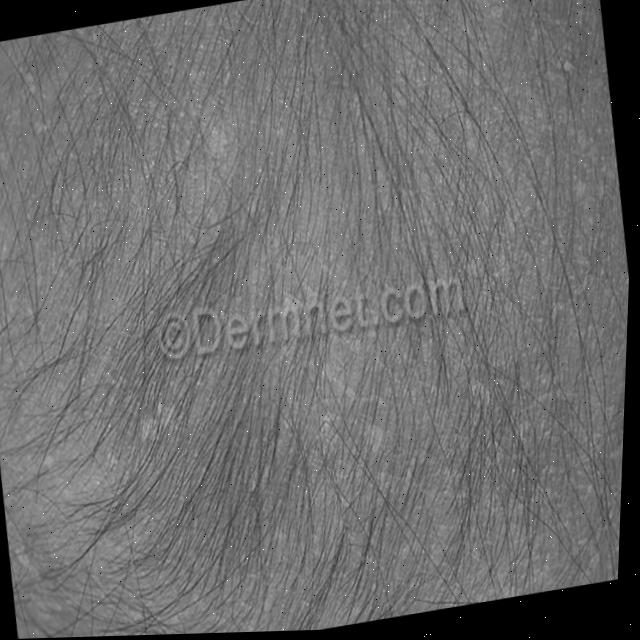Eczema: (9, 110, 435, 514)
